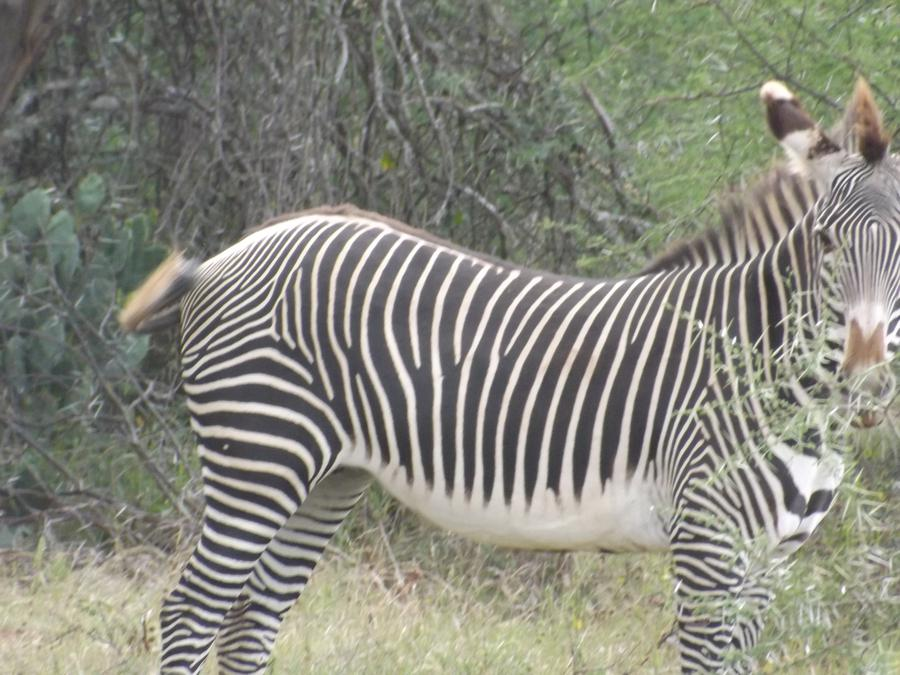zebra_grevys: (173, 171, 777, 561)
